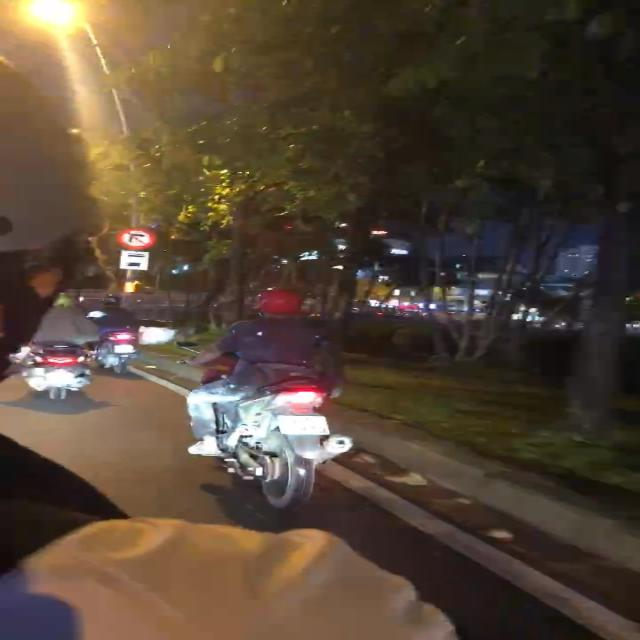Bien bao cam re phai: (119, 224, 157, 250)
